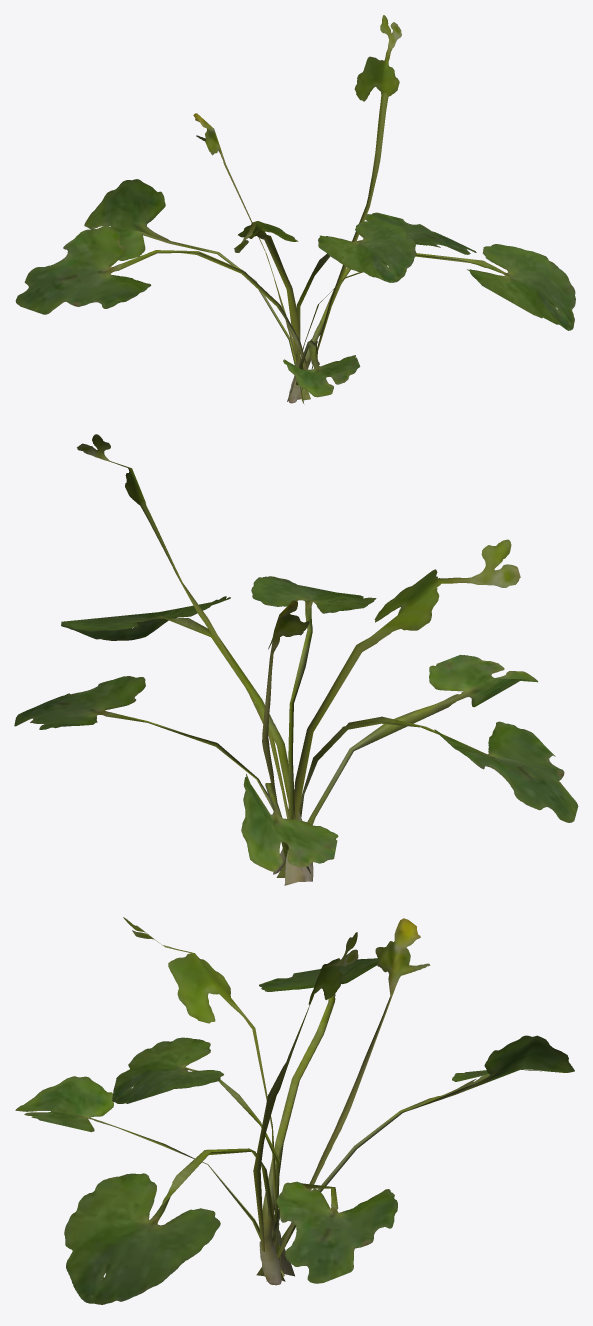
3 renders of one model, top to bottom at view 1: azimuth 30°, elevation 25°; view 2: azimuth 150°, elevation 25°; view 3: azimuth 270°, elevation 25°, orthographic. The views are drawn at different scales.
Parts seen in each view (by area): view 1: celandine_01__a_lod1; view 2: celandine_01__a_lod1; view 3: celandine_01__a_lod1.
Boxes of the visible parts, box(x1,y1,x2,y2) form: celandine_01__a_lod1: box(15, 15, 575, 404); celandine_01__a_lod1: box(14, 434, 578, 885); celandine_01__a_lod1: box(15, 917, 574, 1304).
Bounding box in the file's own units: 0.2827 × 0.1904 × 0.2334.
Materials: 1 (1 with a texture image).
